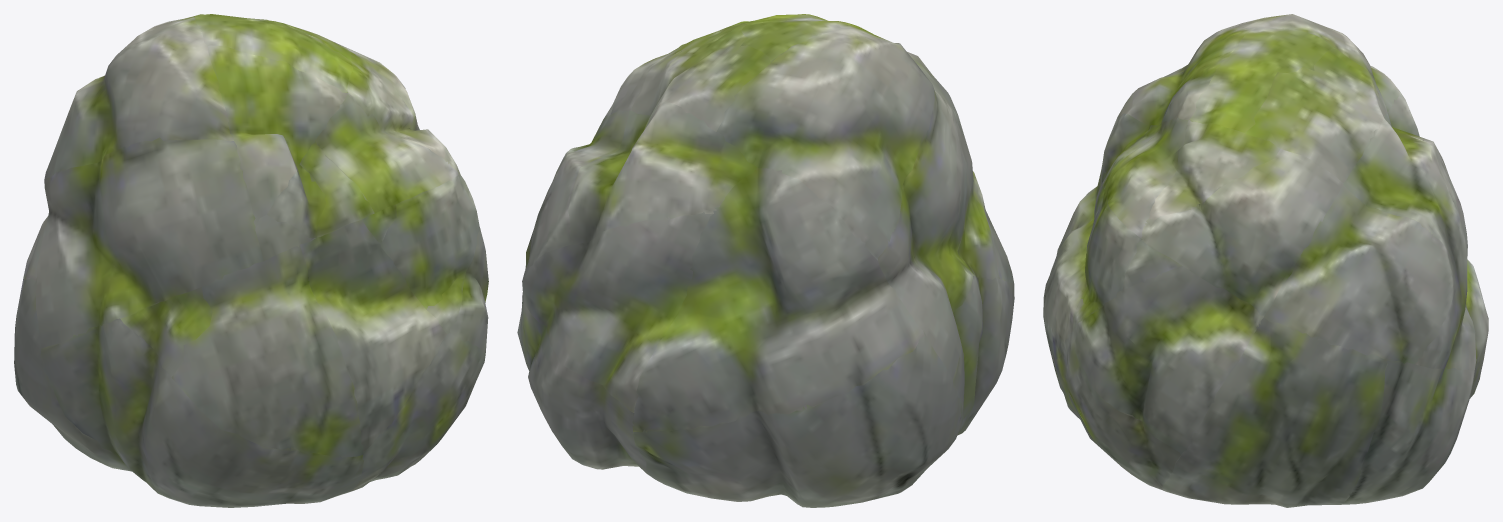
The model's file is mossy-boulder.glb.
The picture shows the model from 3 angles, left to right: view 1: azimuth 30°, elevation 25°; view 2: azimuth 150°, elevation 25°; view 3: azimuth 270°, elevation 25°; orthographic projection. The views are drawn at different scales.
Size of the model in its own units: 1.83 by 1.84 by 1.9.
Materials: 1 (1 with a texture image).
